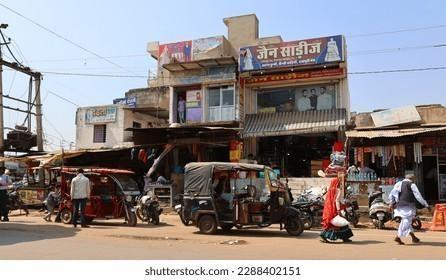keke: (184, 158, 299, 236)
